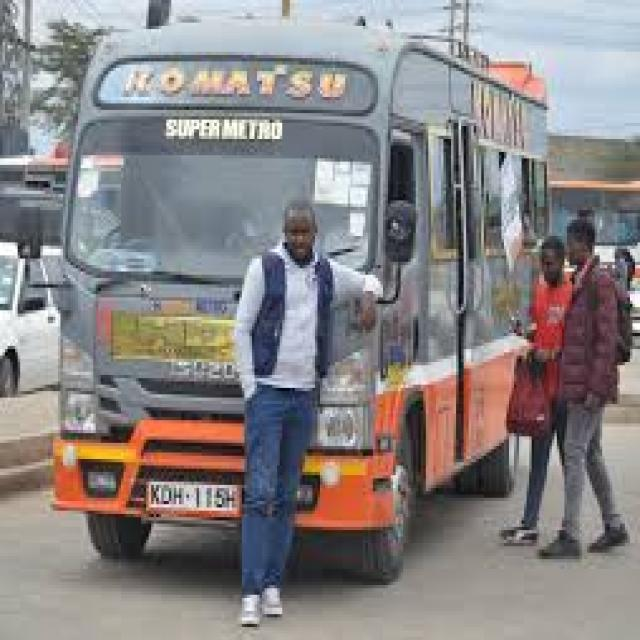bus: (13, 10, 578, 585)
